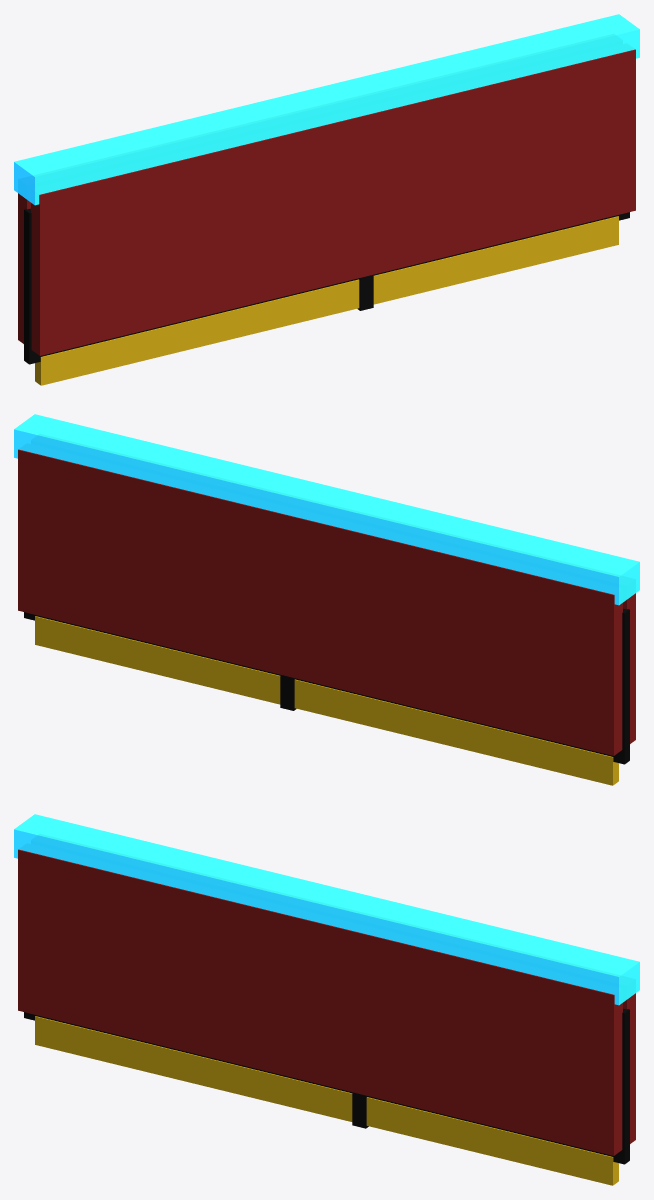
Rendered from ram.glb.
The picture shows the model from 3 angles, top to bottom: view 1: azimuth 30°, elevation 25°; view 2: azimuth 150°, elevation 25°; view 3: azimuth 330°, elevation 25°; orthographic projection.
Bounding box in the file's own units: 0.134 × 0.0465 × 0.0085.
